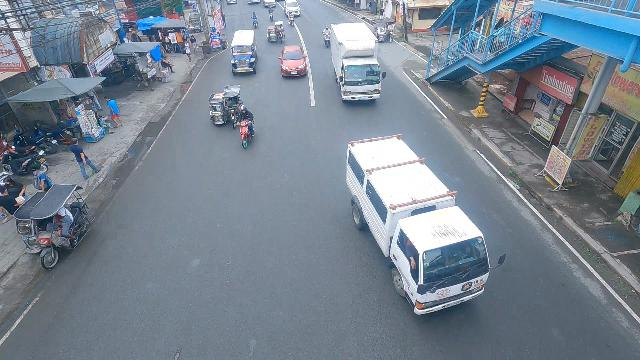car: (280, 44, 308, 78), (284, 0, 302, 17)
jeepney: (231, 29, 256, 75)
motorcycle: (237, 103, 256, 150), (322, 25, 332, 49), (287, 10, 295, 27), (251, 10, 258, 29), (267, 6, 274, 22)
truck: (330, 21, 385, 103)
van: (342, 132, 493, 314)
